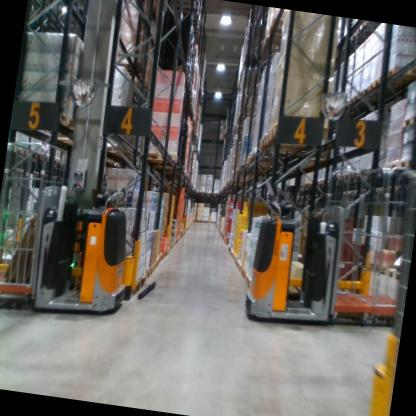pallet: (31, 102, 88, 145), (265, 119, 317, 153), (102, 45, 152, 80), (266, 11, 306, 45), (98, 138, 143, 167), (260, 30, 303, 60), (255, 133, 297, 160), (357, 83, 402, 107), (367, 72, 405, 100), (249, 145, 292, 168), (241, 149, 283, 172), (382, 61, 416, 85), (140, 147, 179, 166), (162, 0, 205, 17), (347, 29, 380, 49), (129, 274, 145, 300), (355, 21, 379, 37), (398, 154, 416, 172), (401, 113, 416, 133), (182, 12, 202, 27), (243, 270, 255, 292), (348, 89, 360, 106), (141, 265, 150, 284), (347, 167, 359, 181), (240, 262, 248, 279), (147, 260, 156, 275), (339, 169, 350, 181), (237, 259, 244, 274), (334, 172, 343, 183), (198, 189, 206, 196), (209, 219, 217, 225), (212, 190, 220, 196), (205, 190, 213, 196), (202, 218, 209, 224), (195, 218, 203, 223)
pallet_truck: (16, 151, 149, 322), (236, 176, 352, 338)
